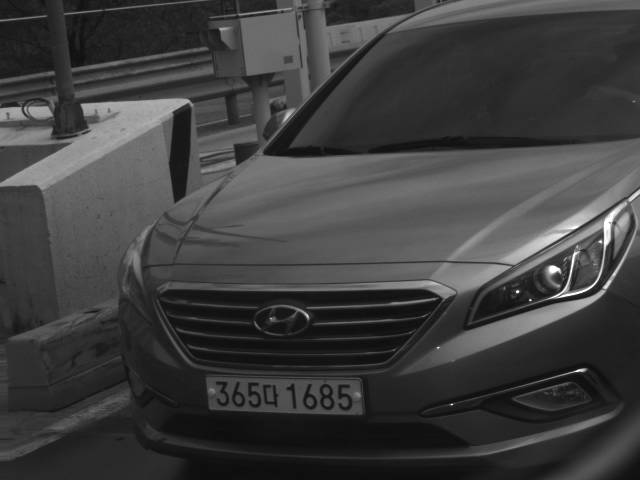car: (115, 1, 640, 472)
plate: (203, 374, 368, 418)
